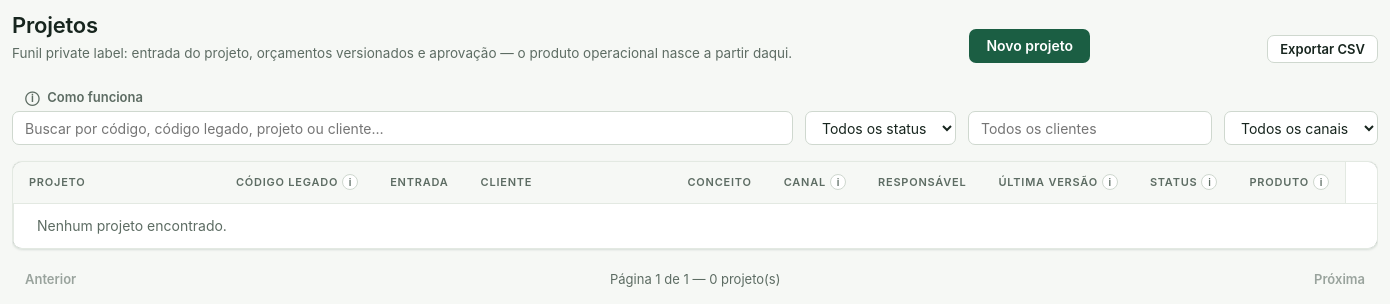
Test case: Projetos (lista) › explica no ⓘ da coluna que a última versão é de orçamento
The width and height of the screenshot is (1390, 304).
Step 1. Click the button "i" next to "Última versão" → coordinates (1110, 182), box [1102,174,1118,190]
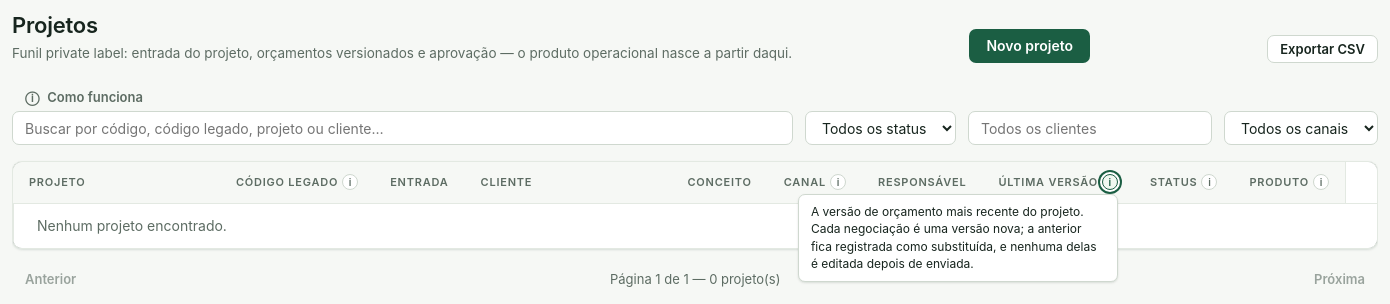
Expected: the text "A versão de orçamento mais recente do projeto. Cada negociação é uma versão nova; a anterior fica registrada como substi" is shown, [811,204,1096,271]
